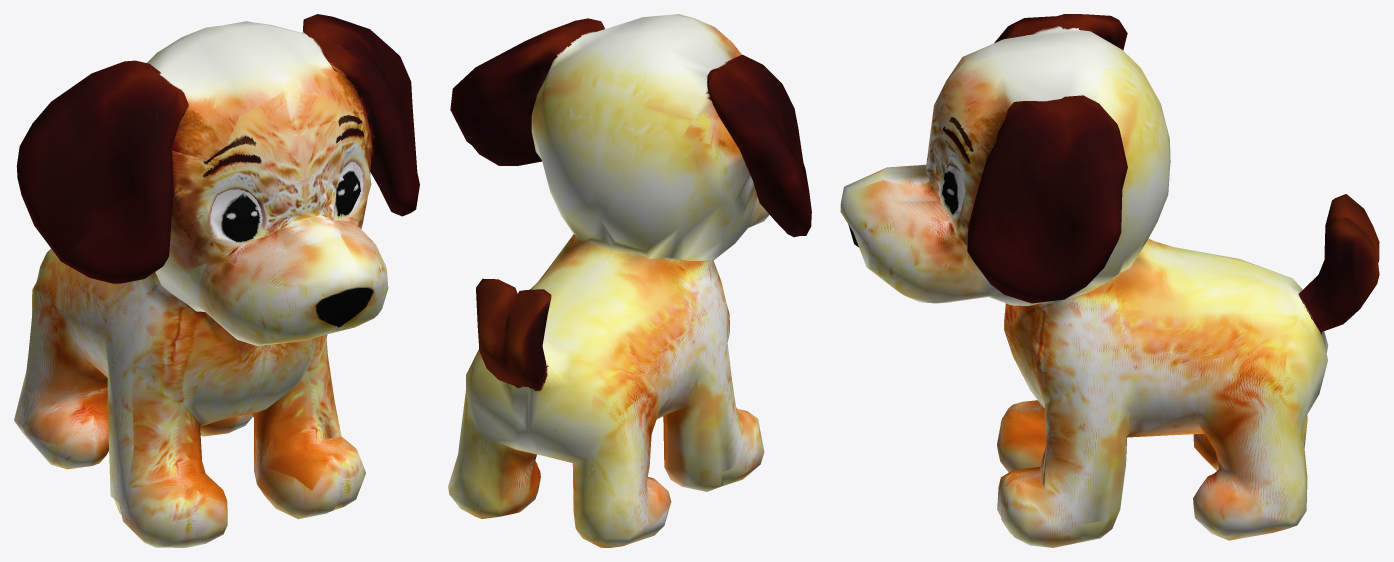
File: dog-low.glb
3 views of the same model, side by side, from view 1: azimuth 30°, elevation 25°; view 2: azimuth 150°, elevation 25°; view 3: azimuth 270°, elevation 25° (orthographic). The views are drawn at different scales.
Parts seen in each view (by area): view 1: character_LOD1; view 2: character_LOD1; view 3: character_LOD1.
Boxes of the visible parts, x1,y1,x2,y2 form: character_LOD1: (14, 14, 419, 547); character_LOD1: (448, 14, 811, 547); character_LOD1: (840, 14, 1379, 547).
Size of the model in its own units: 0.7815 by 0.9272 by 0.9755.
1 material, 1 textured.
